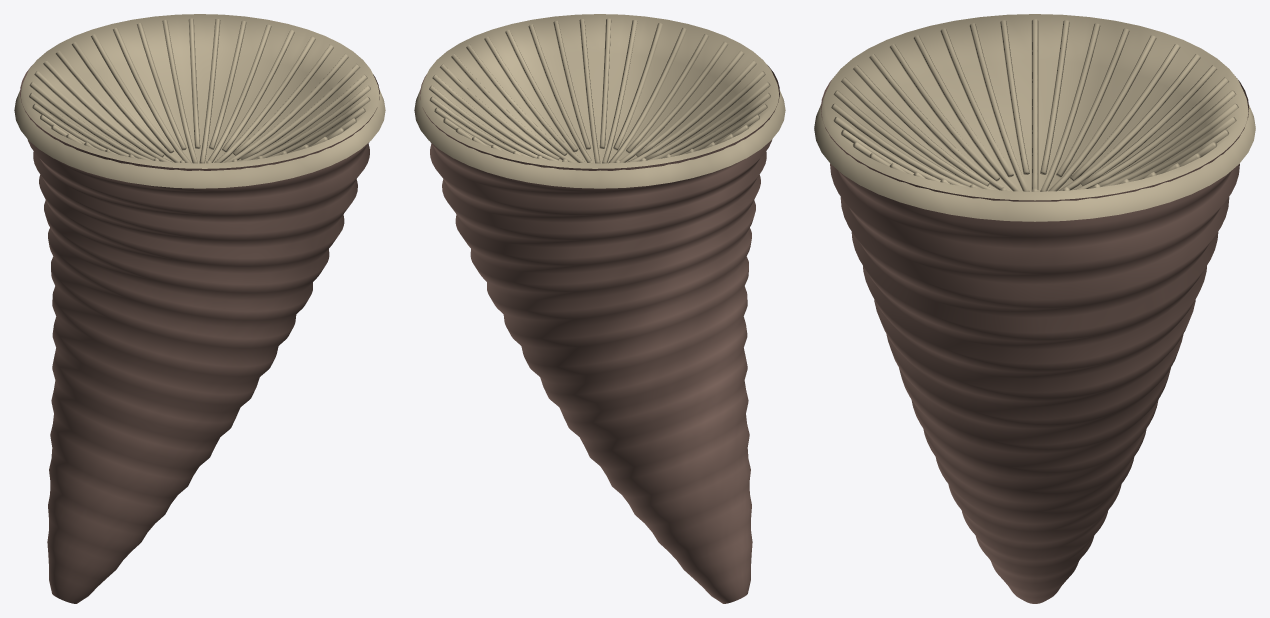
The model's file is solitary-rugose-coral-v2.glb.
3 renders of one model, left to right at view 1: azimuth 30°, elevation 25°; view 2: azimuth 150°, elevation 25°; view 3: azimuth 270°, elevation 25°, orthographic. The views are drawn at different scales.
Parts seen in each view (by area): view 1: solitary-rugose-coral-v2; view 2: solitary-rugose-coral-v2; view 3: solitary-rugose-coral-v2.
Boxes of the visible parts, left/top/right/bottom form: solitary-rugose-coral-v2: left=14, top=14, right=385, bottom=603; solitary-rugose-coral-v2: left=414, top=14, right=785, bottom=603; solitary-rugose-coral-v2: left=814, top=14, right=1255, bottom=603.
Bounding box in the file's own units: 0.0713 × 0.1021 × 0.0713.
